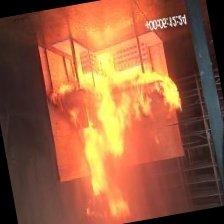fire: (39, 21, 204, 224)
